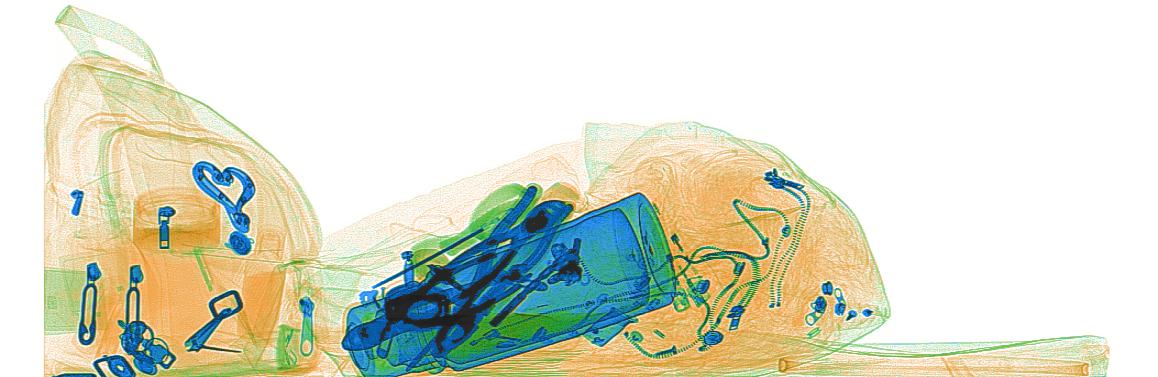lighter: (642, 195, 711, 309), (635, 203, 692, 314)
